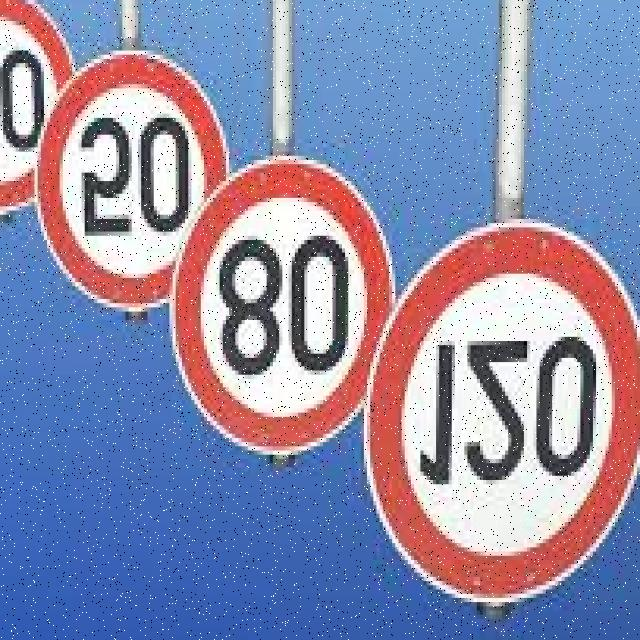speed_limit_120: (348, 215, 640, 623)
speed_limit_30: (0, 0, 69, 223)
speed_limit_50: (32, 54, 226, 320)
speed_limit_80: (170, 148, 399, 460)
